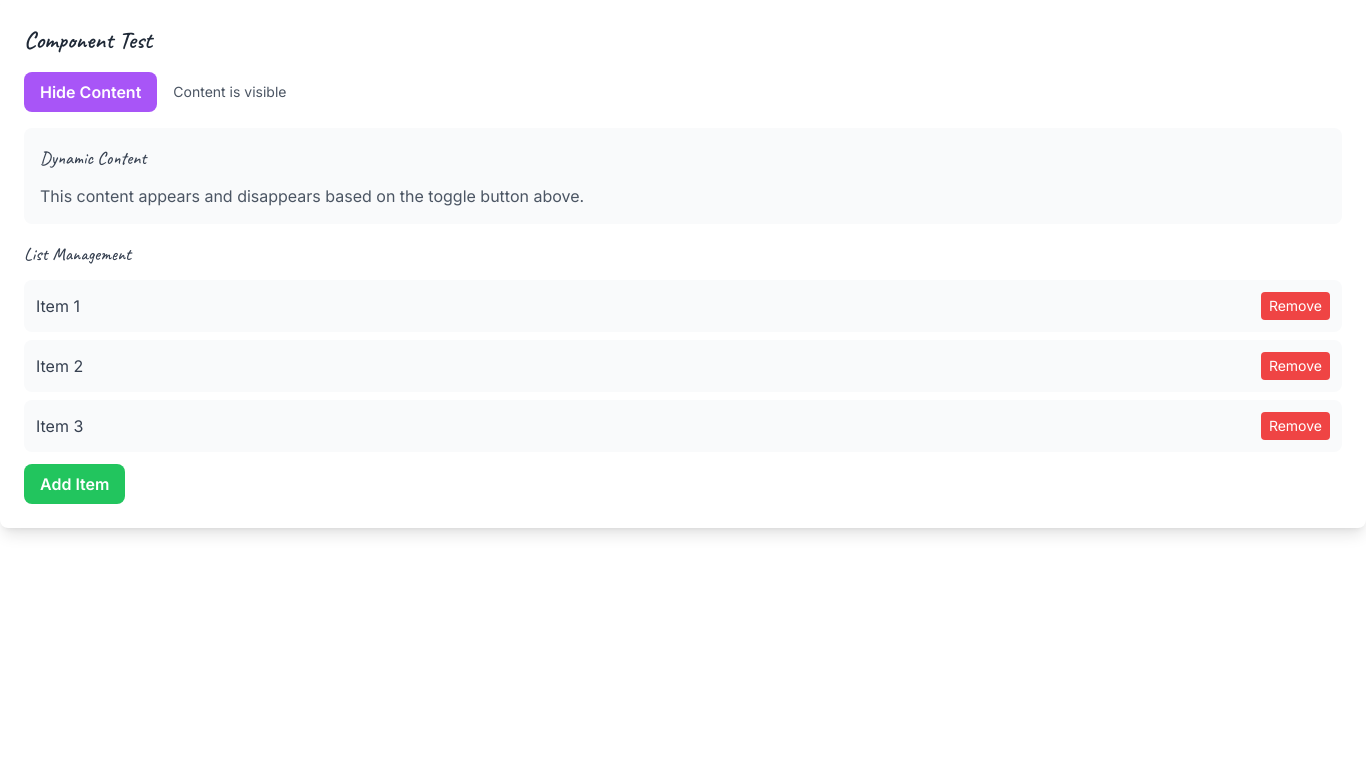
Test: TestComponent › toggles content visibility
Expected: the heading "Dynamic Content" is shown, x1=40 y1=147 x2=146 y2=169
Expected: the text "Content is visible" is shown, x1=173 y1=82 x2=286 y2=102
// Click to hide
Step 1. Click the button "Hide Content" → (91, 92), box x1=24 y1=72 x2=157 y2=112
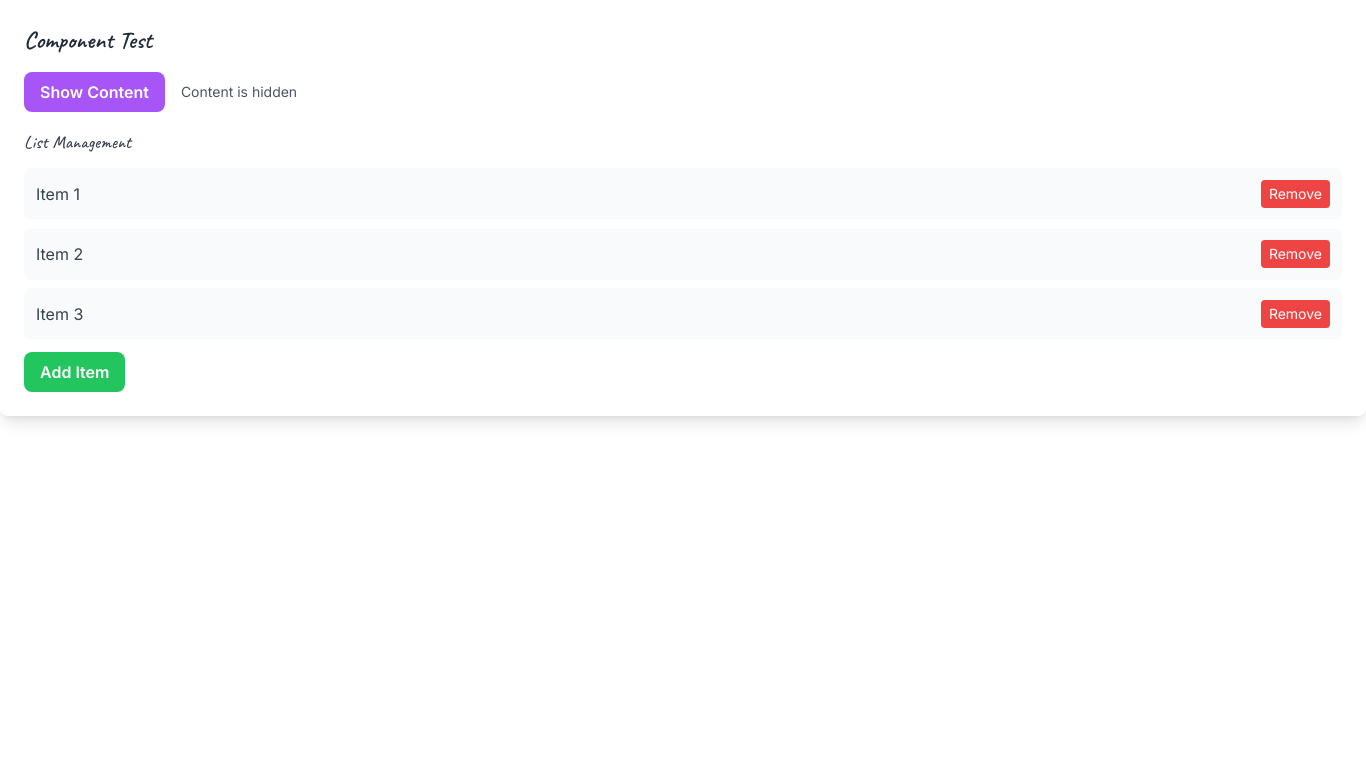
Result: the button "Show Content" is shown at x1=24 y1=72 x2=165 y2=112
Result: the text "Content is hidden" is shown at x1=181 y1=82 x2=297 y2=102
Result: the heading "Dynamic Content" is gone
